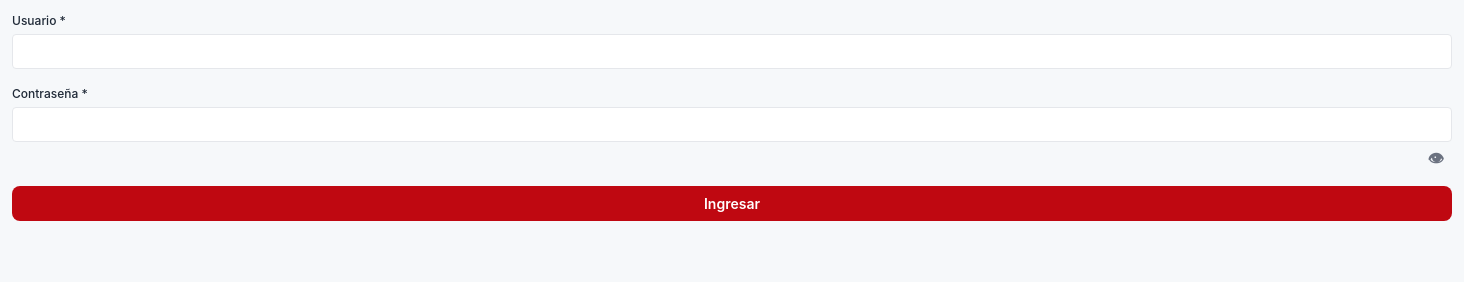
Test case: LoginForm › no envía con campos vacíos y enfoca el usuario primero
The width and height of the screenshot is (1464, 282).
Click the button "Ingresar" at [732, 204], box [12, 186, 1452, 221]
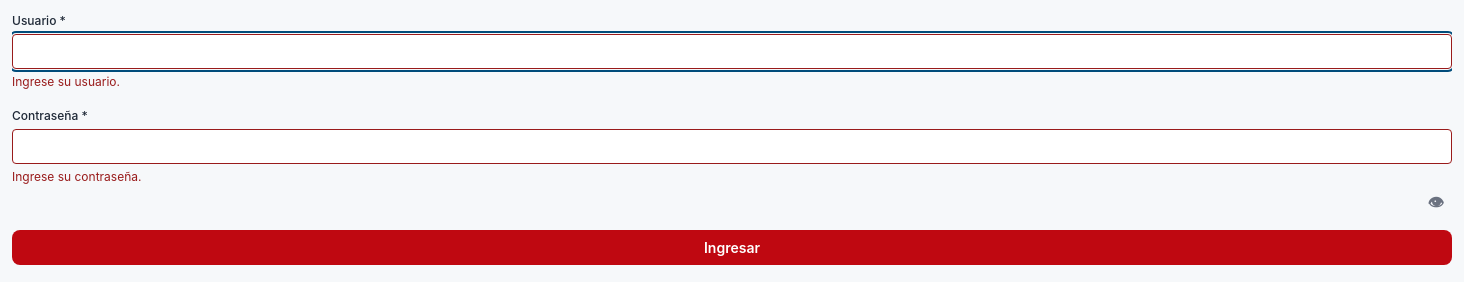
expect the text "Ingrese su usuario." is shown: met, box [12, 74, 120, 89]
